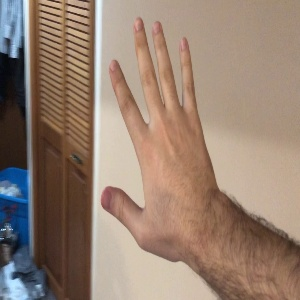hand: (102, 18, 217, 250)
